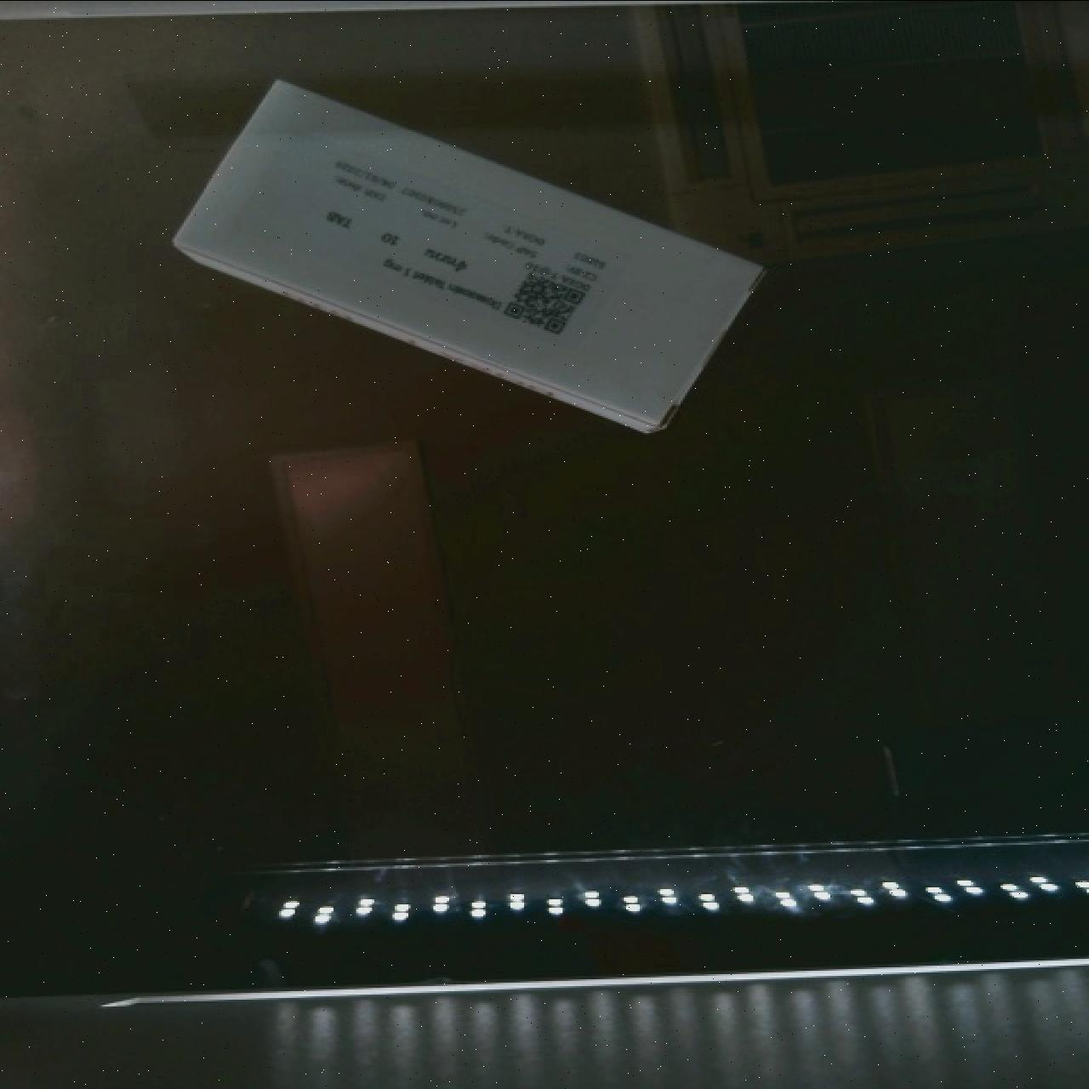qr_code: (487, 245, 615, 360)
